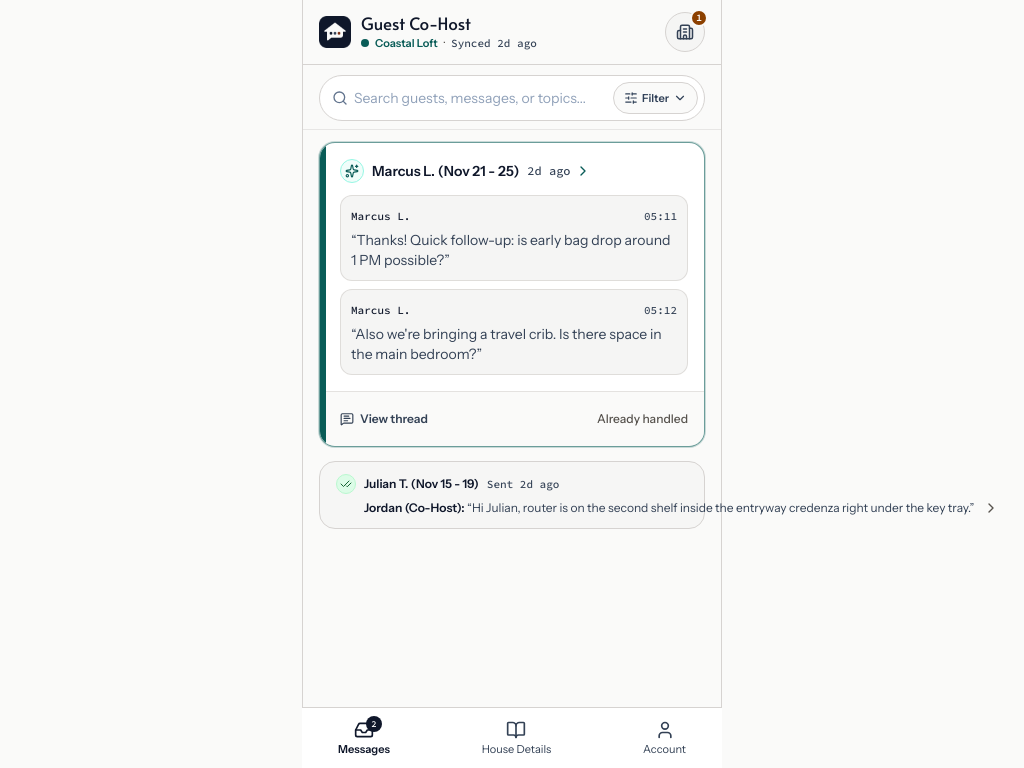
it: Stage 2: Core Messaging Journey (Messages, Agent Dialogue, Guest Thread) › reorders properties from PropertySwitcher and persists the new sortOrder
The width and height of the screenshot is (1024, 768).
Click the button named "Switch property" at (685, 32), box [665,12,705,52]
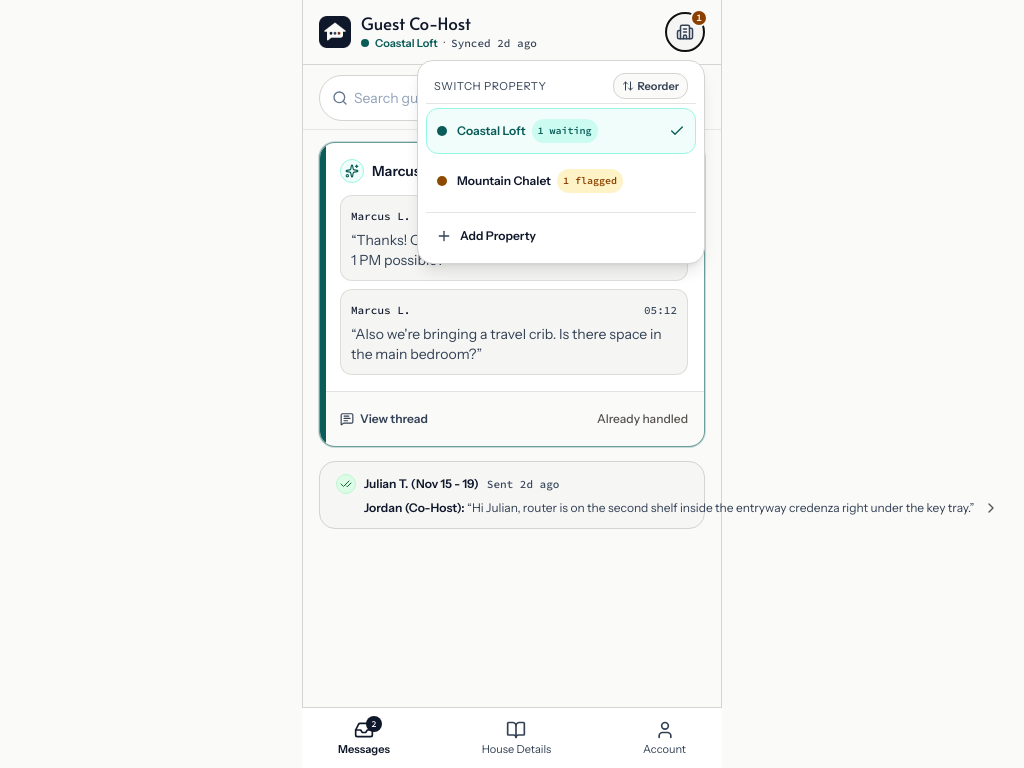
Click the button "Reorder" at (650, 86), box [612,73,688,99]
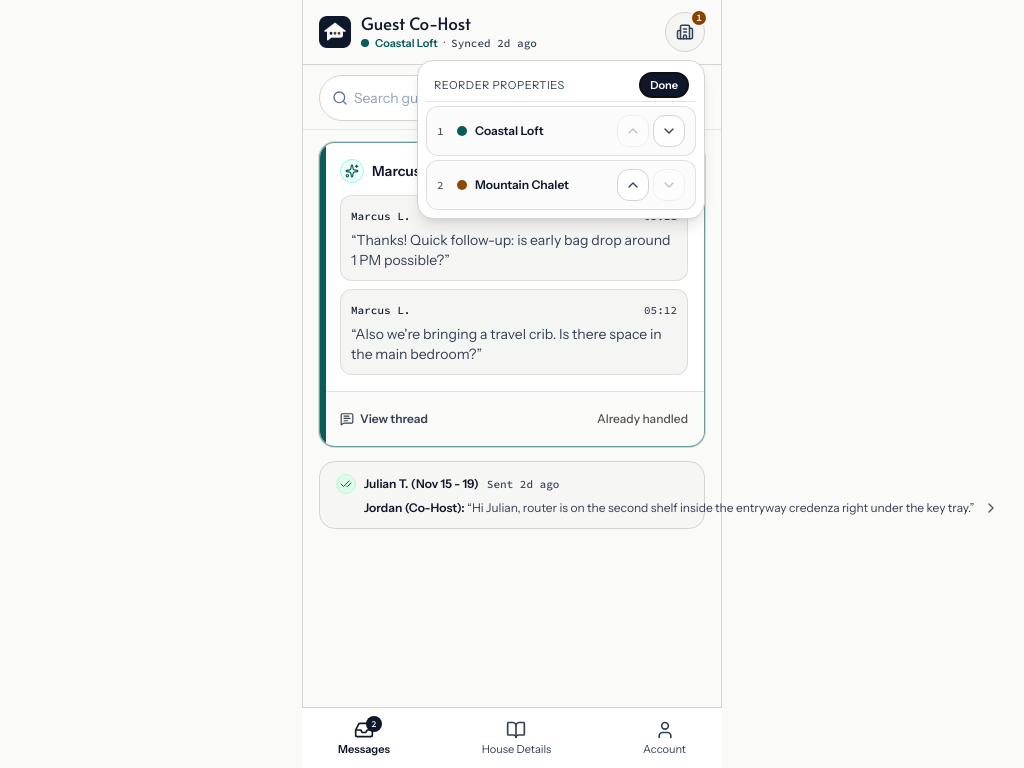
Click the button named "Move Mountain Chalet up" at (633, 185), box [617,169,649,201]
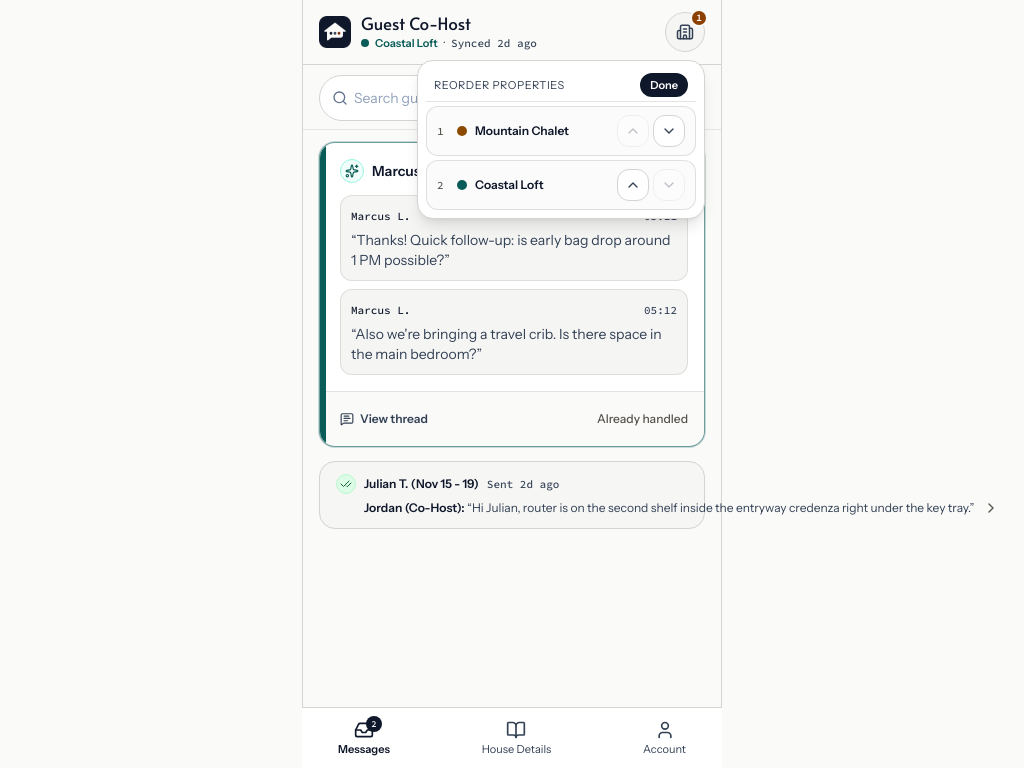
Click the button "Done" at (664, 85), box [640,73,688,97]
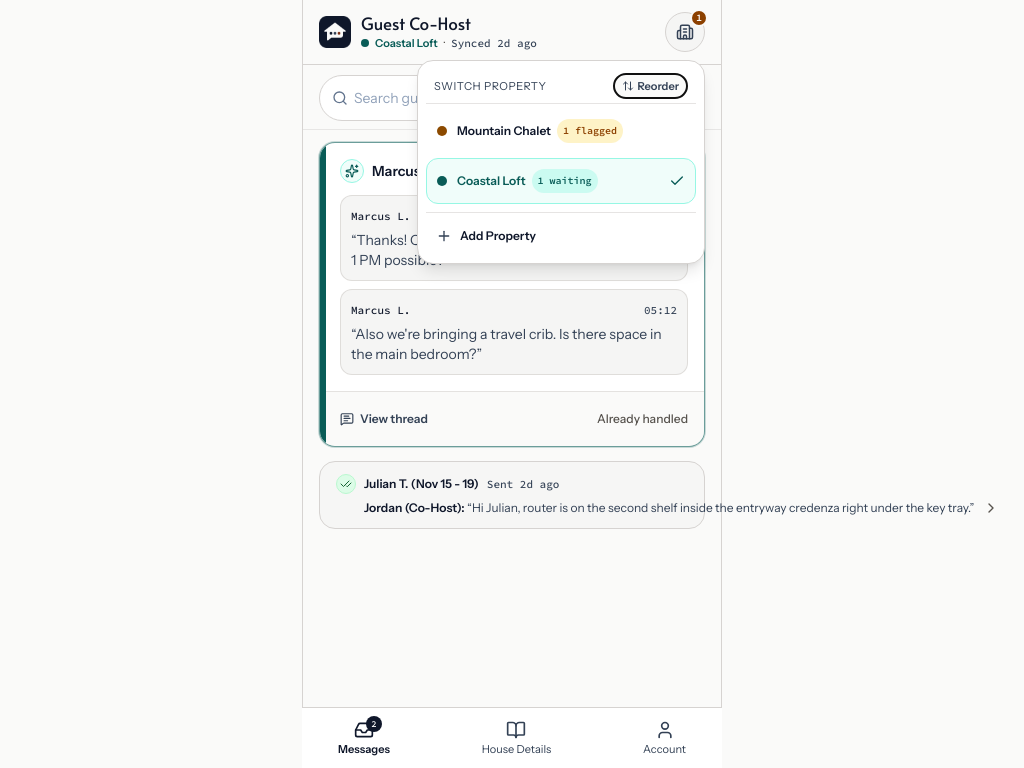
expect the menu item "Mountain Chalet 1 flagged" is shown: met, box [426,108,696,154]
expect the menu item "Coastal Loft 1 waiting" is shown: met, box [426,158,696,204]
